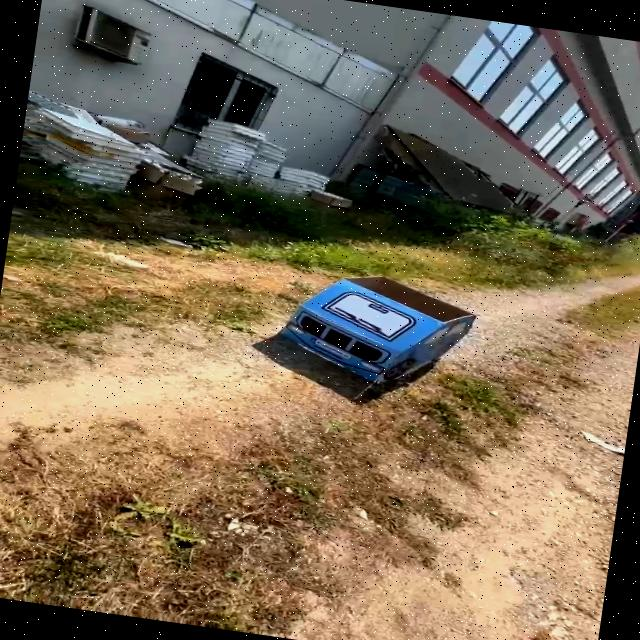blue_car: (243, 237, 494, 414)
